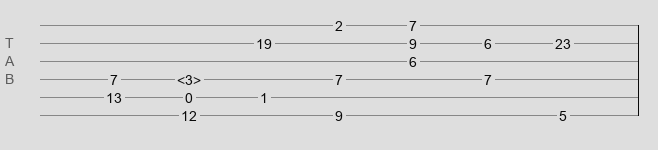0: (185, 90, 193, 100)
1: (260, 90, 268, 100)
12: (181, 108, 197, 118)
13: (106, 90, 122, 100)
19: (256, 36, 272, 46)
2: (335, 18, 343, 28)
23: (555, 36, 571, 46)
5: (559, 108, 567, 118)
6: (409, 54, 417, 64), (484, 36, 492, 46)
7: (110, 72, 118, 82), (335, 72, 343, 82), (409, 18, 417, 28), (484, 72, 492, 82)
9: (335, 108, 343, 118), (409, 36, 417, 46)
harmonic: (177, 72, 201, 82)
